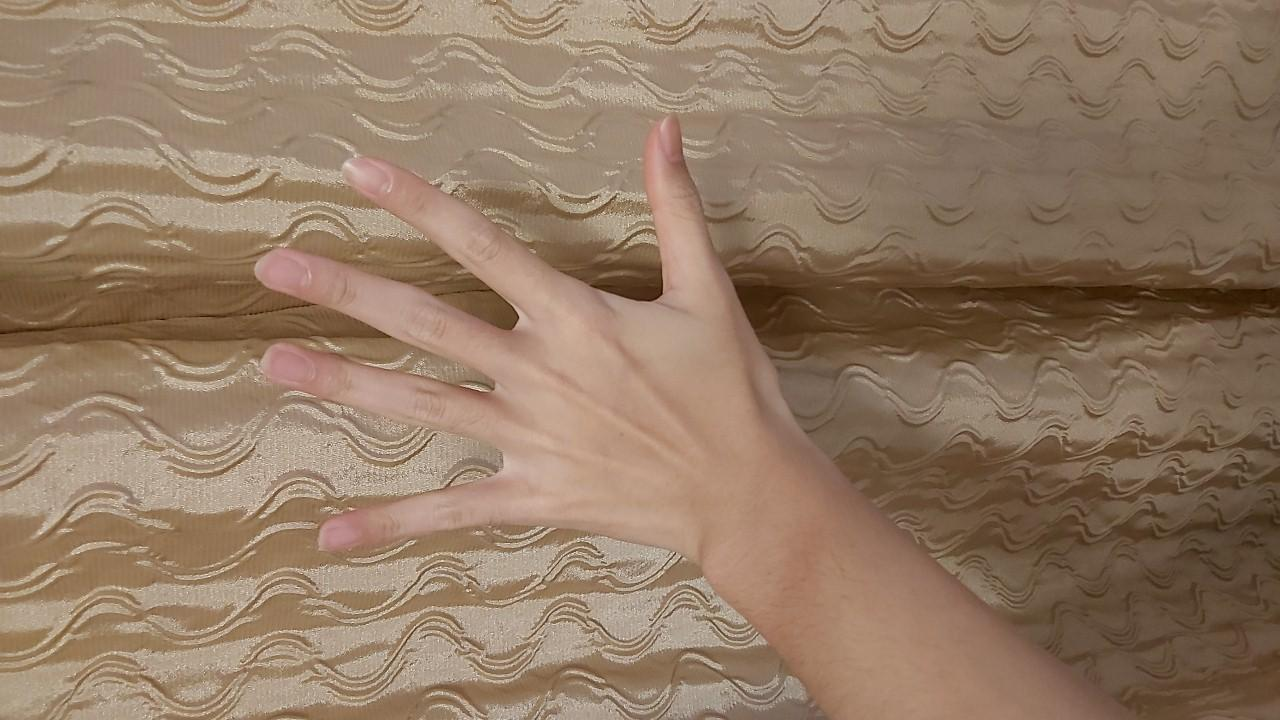hand: (294, 143, 1085, 429)
